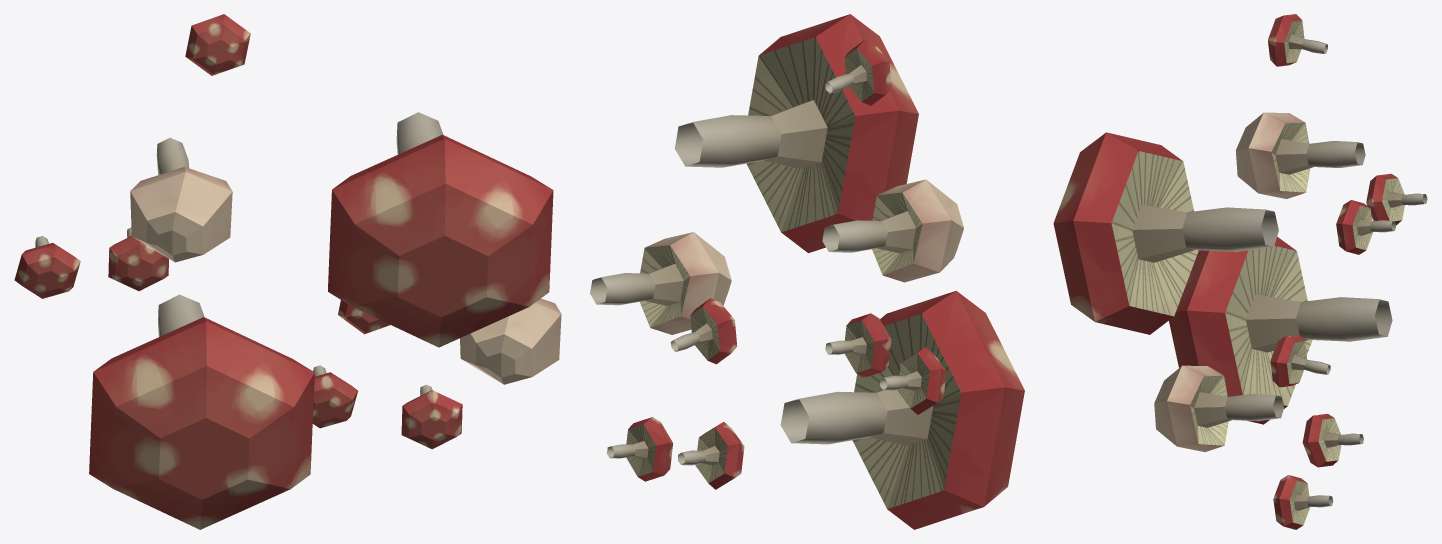
File: Mushroom2.fbx
3 views of the same model, side by side, from view 1: azimuth 30°, elevation 25°; view 2: azimuth 150°, elevation 25°; view 3: azimuth 270°, elevation 25° (orthographic). The views are drawn at different scales.
Parts seen in each view (by area): view 1: Mushroom2; view 2: Mushroom2; view 3: Mushroom2.
Boxes of the visible parts, x1=… form: Mushroom2: x1=14, y1=14, x2=561, y2=529; Mushroom2: x1=590, y1=14, x2=1024, y2=529; Mushroom2: x1=1053, y1=14, x2=1427, y2=529.
Size of the model in its own units: 727 by 810 by 646.
Materials: 1 (1 with a texture image).
